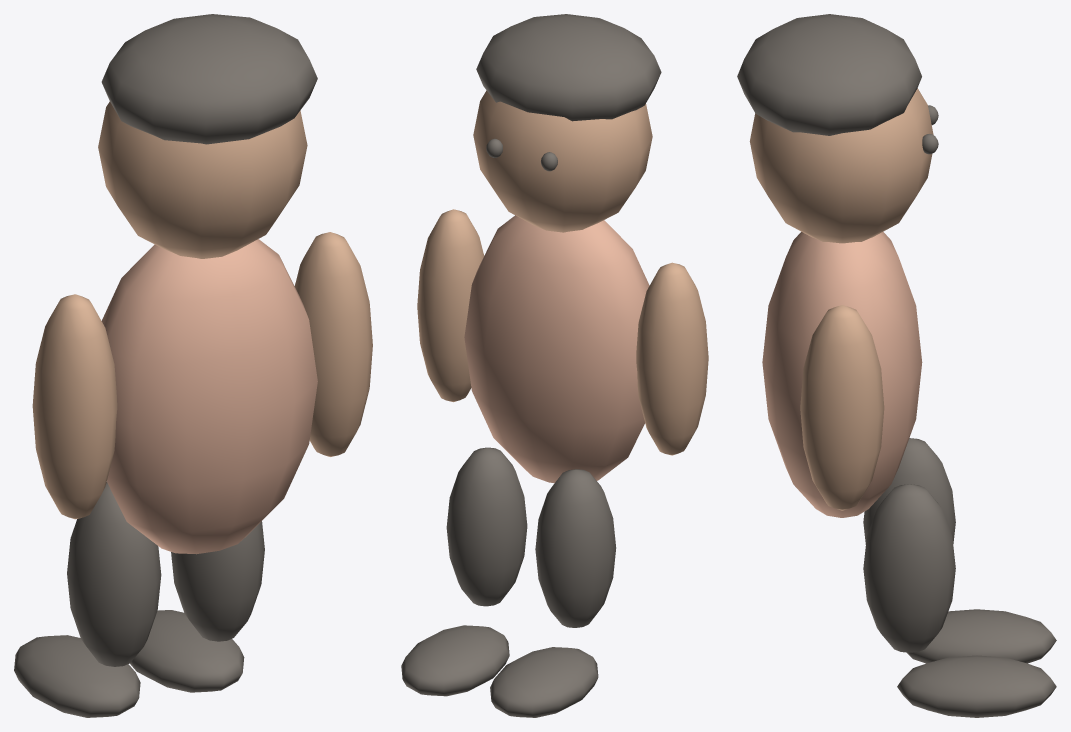
The model's file is neighbor-seated.glb.
3 views of the same model, side by side, from view 1: azimuth 30°, elevation 25°; view 2: azimuth 150°, elevation 25°; view 3: azimuth 270°, elevation 25° (orthographic). The views are drawn at different scales.
Size of the model in its own units: 0.82 by 1.72 by 0.76.
